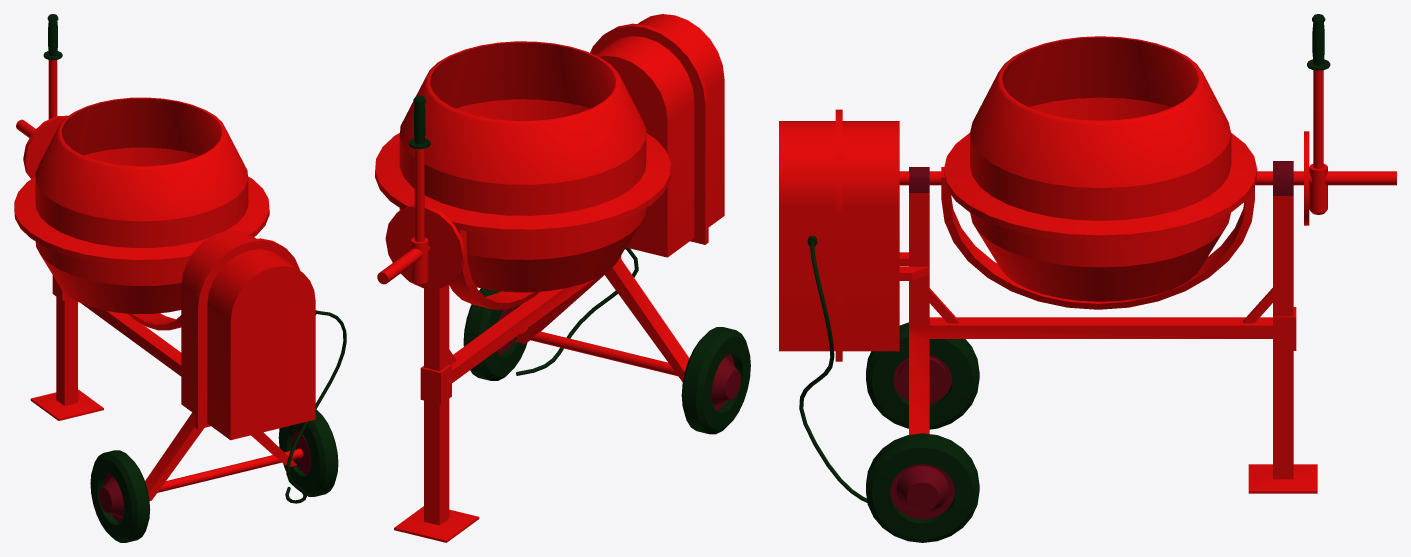
The model's file is ConcreteMixerdSub.fbx.
3 renders of one model, left to right at view 1: azimuth 30°, elevation 25°; view 2: azimuth 150°, elevation 25°; view 3: azimuth 270°, elevation 25°, orthographic. The views are drawn at different scales.
Parts seen in each view (by area): view 1: Cylinder, Cylinder.001; view 2: Cylinder.001, Cylinder; view 3: Cylinder, Cylinder.001.
Boxes of the visible parts, <box> form: Cylinder: <box>16,115,346,542</box>; Cylinder.001: <box>14,14,269,313</box>; Cylinder.001: <box>375,41,670,292</box>; Cylinder: <box>377,14,750,542</box>; Cylinder: <box>779,109,1396,542</box>; Cylinder.001: <box>944,14,1330,301</box>.
Bounding box in the file's own units: 144 × 237 × 284.
